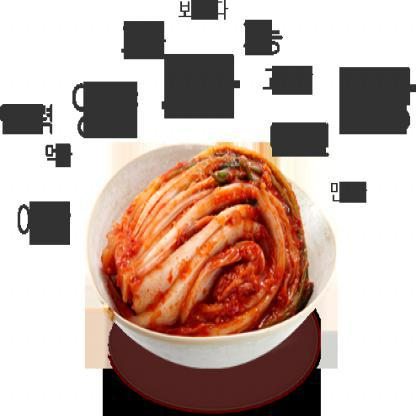kimchi: (117, 136, 309, 338)
